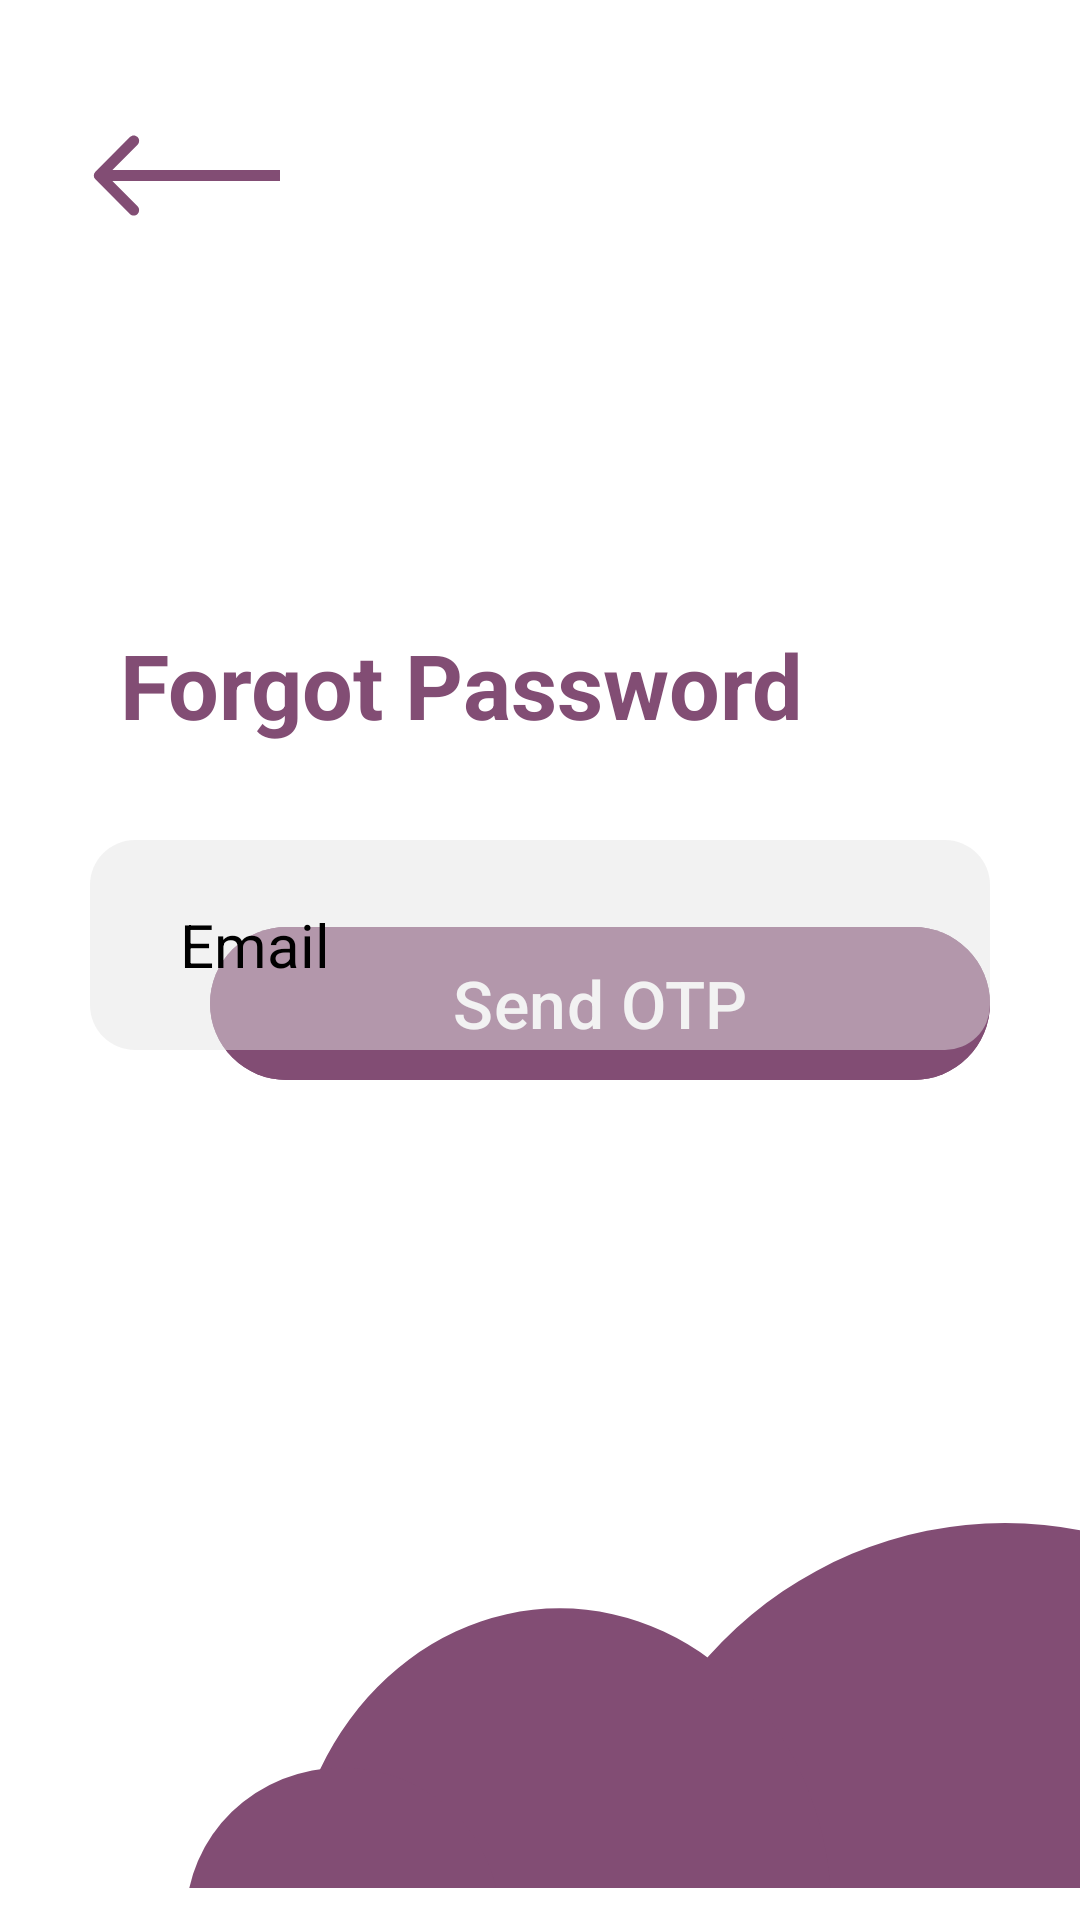

Screen size 1080px×1920px. Icon name, then its box in pixels as (x1, y1, x2, y2):
back arrrow: (93, 135, 280, 216)
